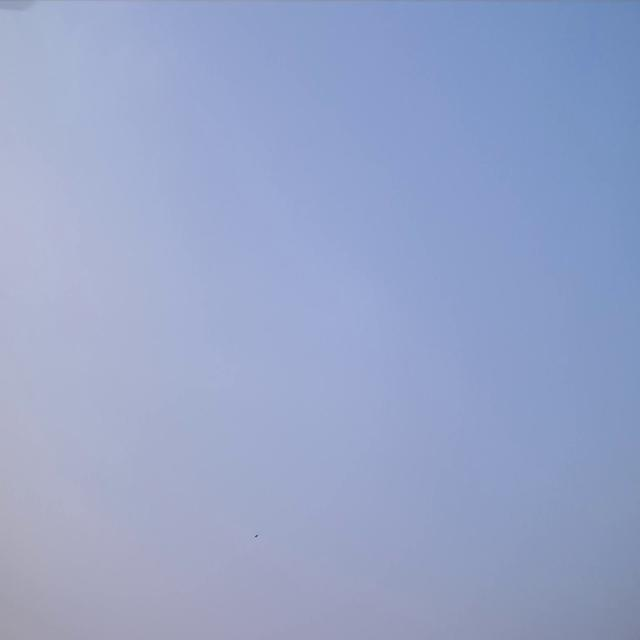UAV: (254, 532, 259, 538)
